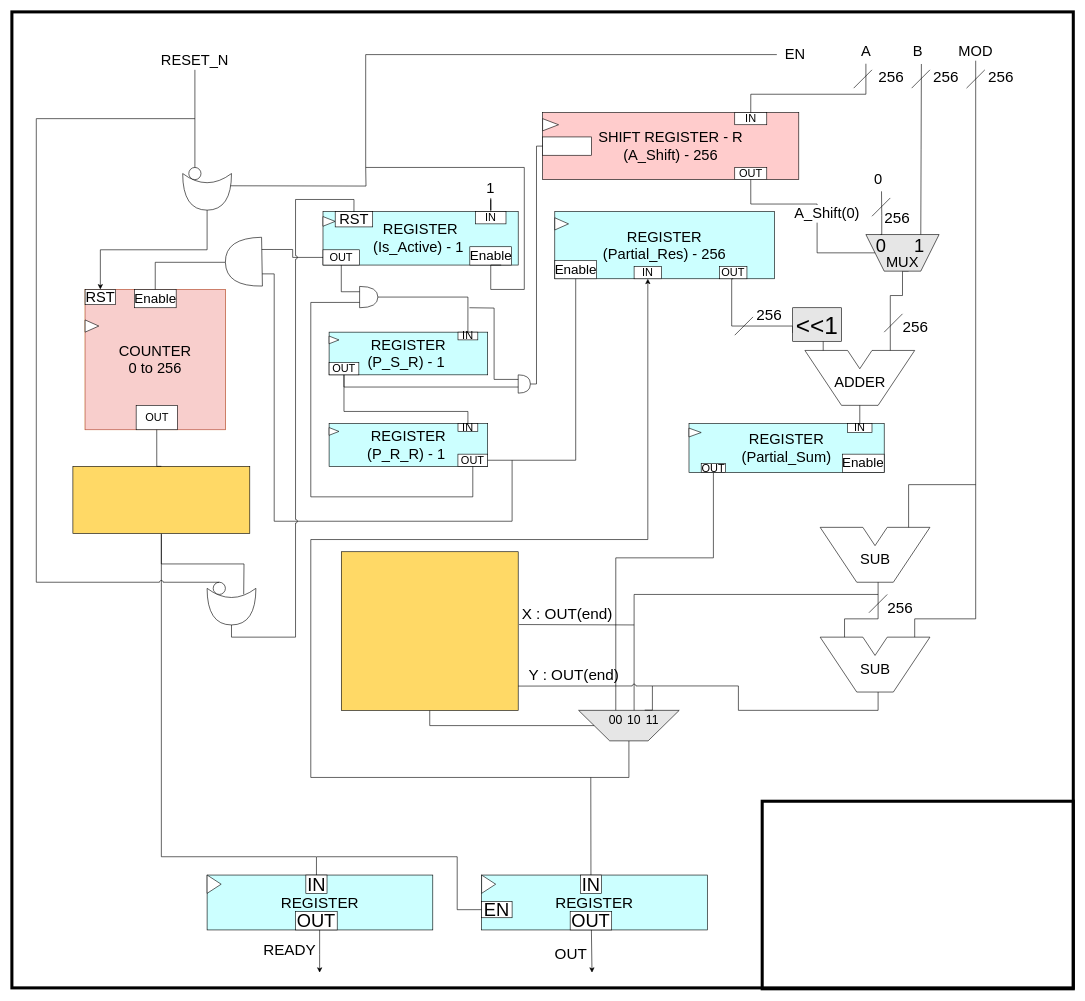
Image size: 1085x1001. Some labels were removed from this diagram. Each missing label, with the centre of its shape:
"BLAKLEY ALGORITHM" belongs at (x=917, y=894).
"Shift" belongs at (x=566, y=145).
"Z = 00 when X * Y 10 when !X* Y 11 when !Y 01 other" belongs at (x=429, y=630).
"Z = 1 when COUNTER = 256 0 others" belongs at (x=161, y=499).
